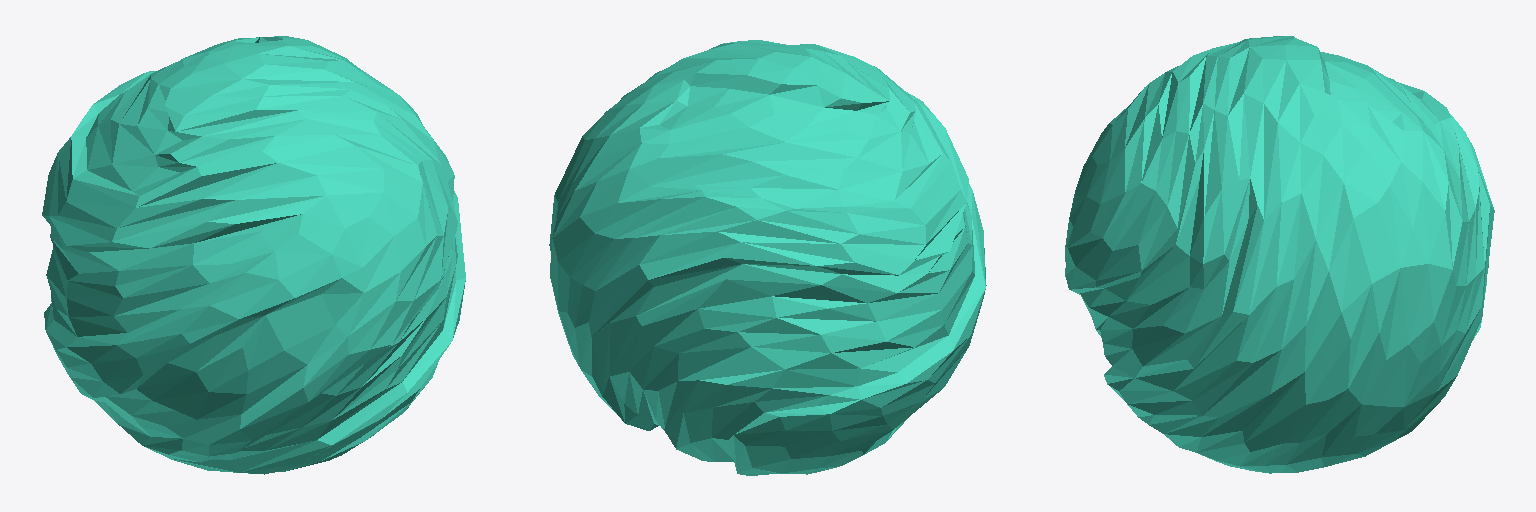
The model's file is Pluto.obj.
3 renders of one model, left to right at view 1: azimuth 30°, elevation 25°; view 2: azimuth 150°, elevation 25°; view 3: azimuth 270°, elevation 25°, orthographic.
Parts seen in each view (by area): view 1: Pluto; view 2: Pluto; view 3: Pluto.
Part boxes in pixels (x1,y1,x2,y2): Pluto: (42, 36, 465, 474); Pluto: (549, 40, 986, 475); Pluto: (1065, 36, 1494, 473).
Bounding box in the file's own units: 34.21 × 34.65 × 33.94.